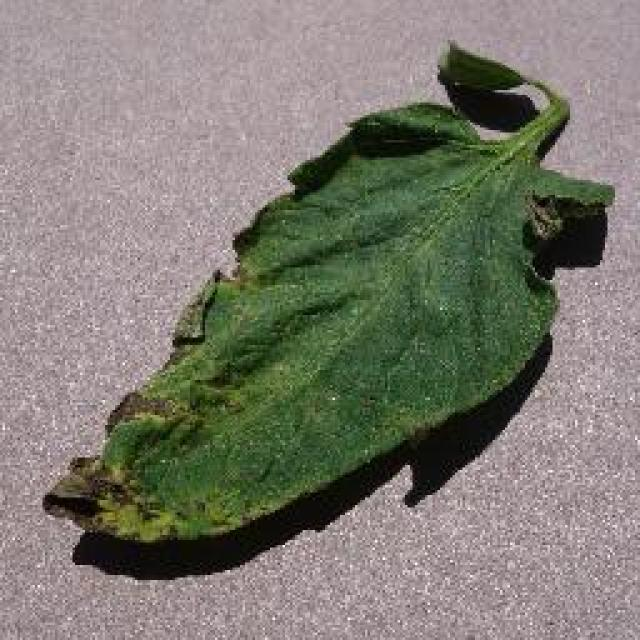Tomato___Septoria_leaf_spot: (45, 42, 612, 540)
